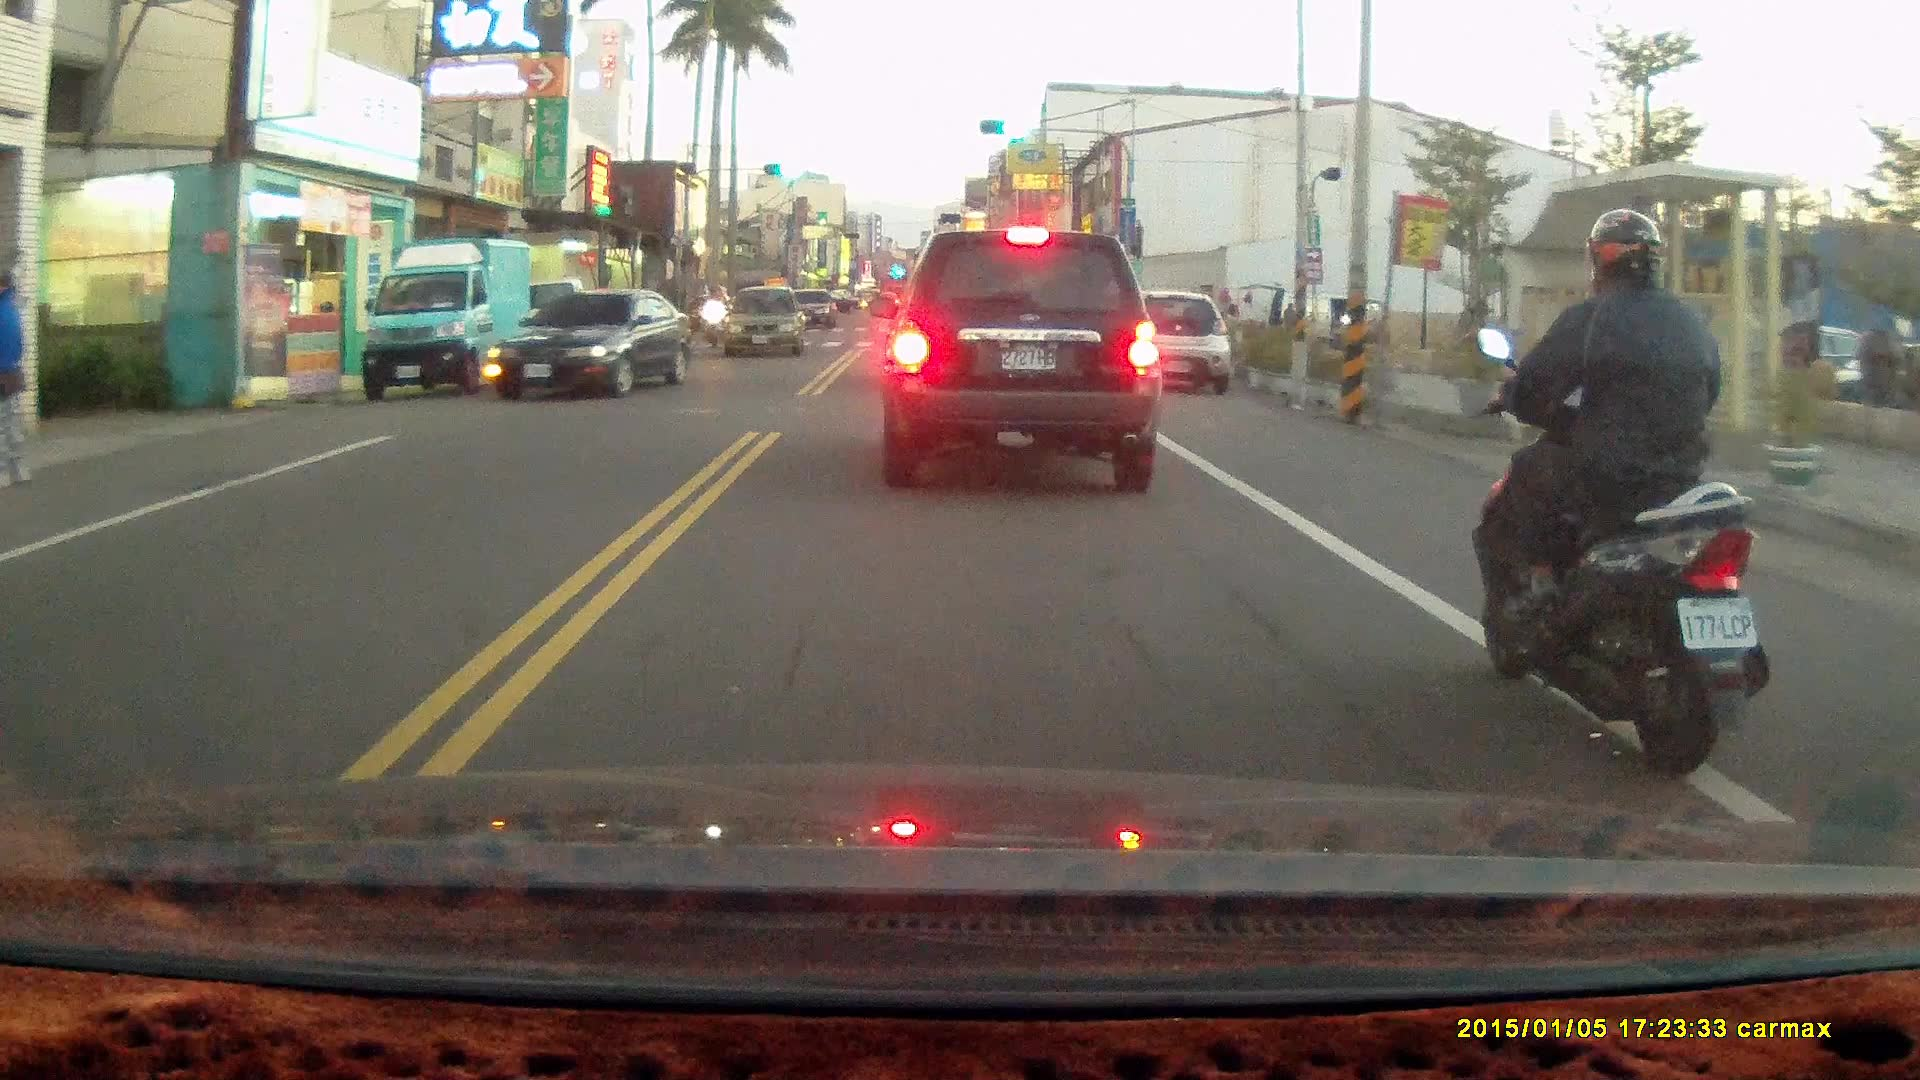pedestrian: (0, 267, 33, 491)
rider: (1468, 205, 1768, 776), (700, 283, 731, 350)
vehicle: (877, 229, 1163, 497), (357, 235, 535, 404), (489, 290, 696, 400), (1121, 288, 1235, 398), (721, 287, 810, 363)
